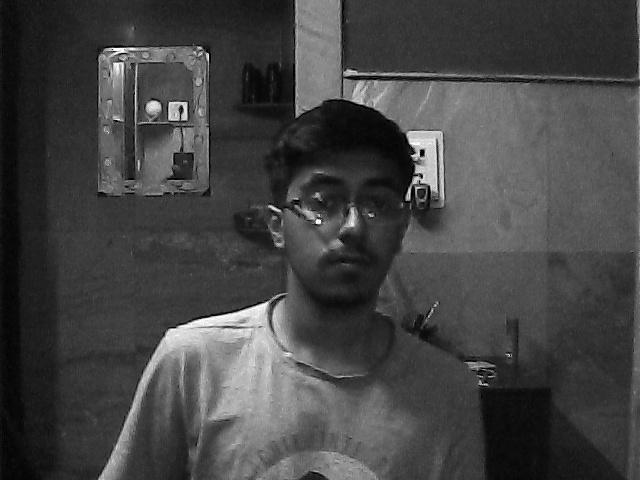nomask: (282, 134, 403, 306)
